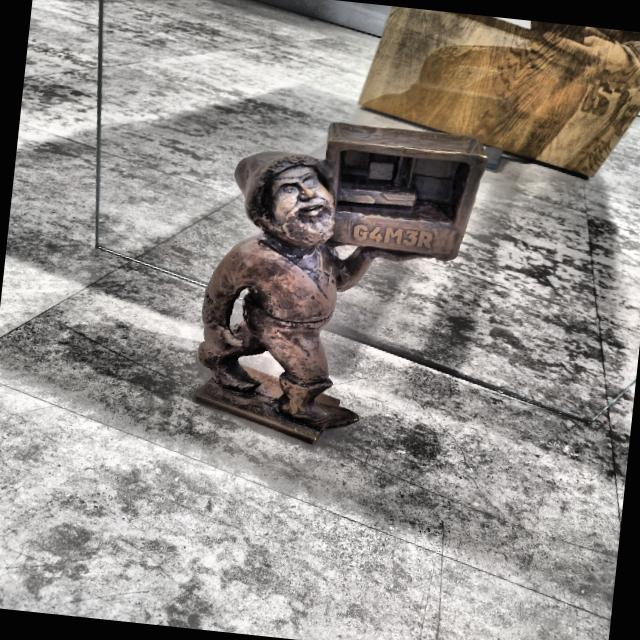GigaHercjusz: (194, 122, 486, 444)
